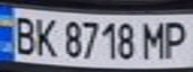1: (100, 19, 121, 60)
7: (78, 18, 100, 60)
8: (60, 17, 84, 60), (115, 18, 139, 61)
B: (9, 12, 39, 56)
K: (30, 15, 57, 57)
M: (139, 18, 172, 60)
P: (160, 17, 193, 60)
